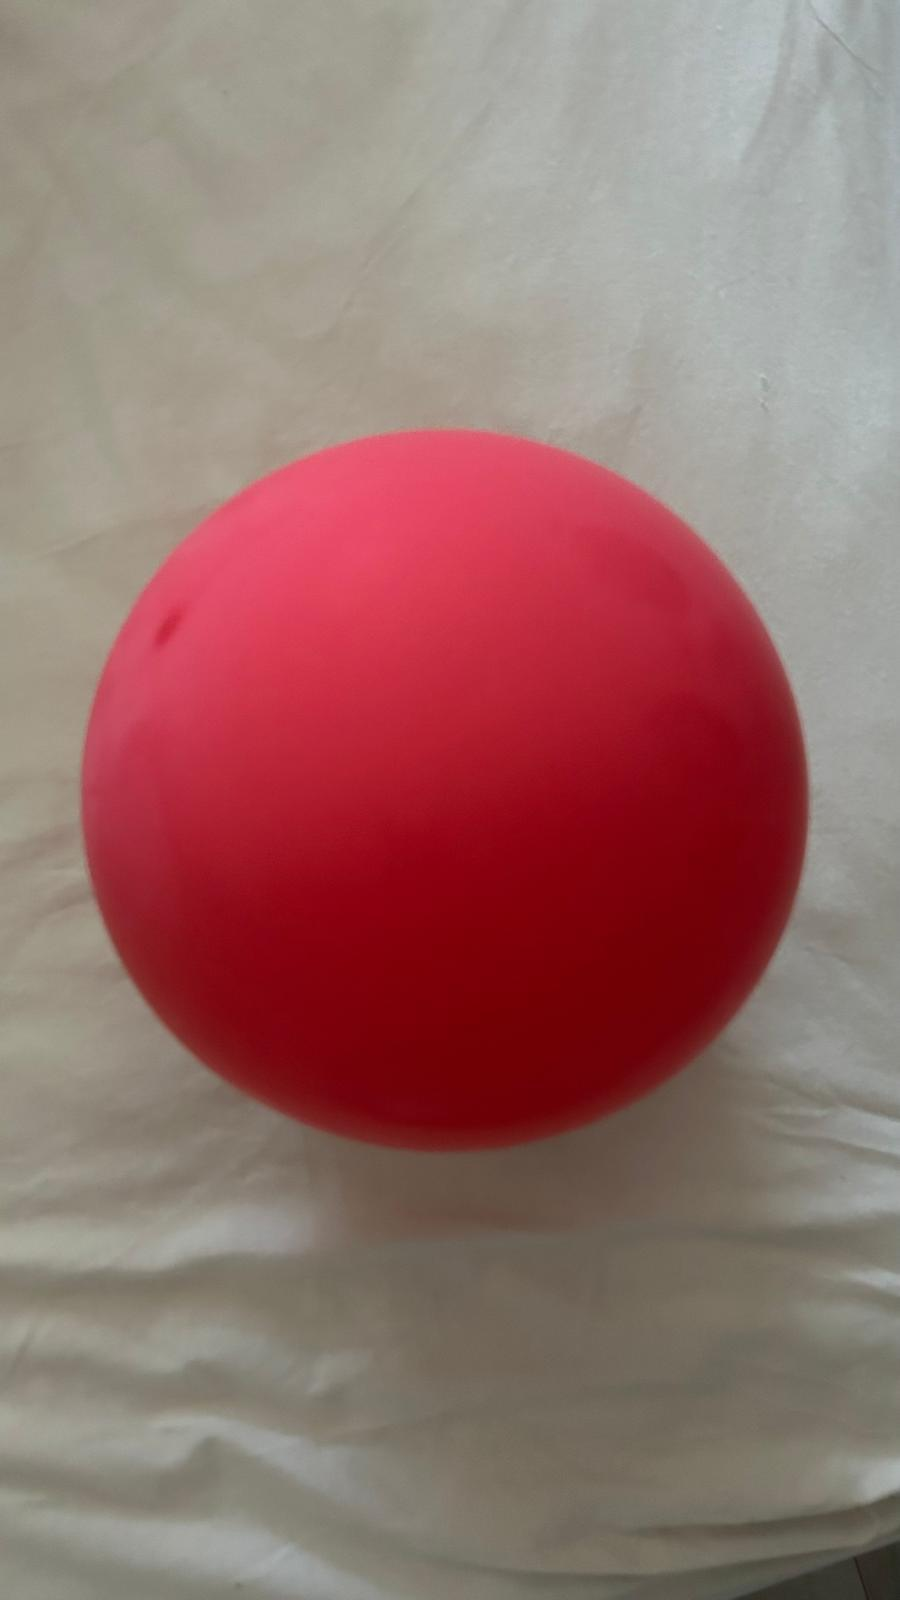red: (77, 421, 813, 1166)
